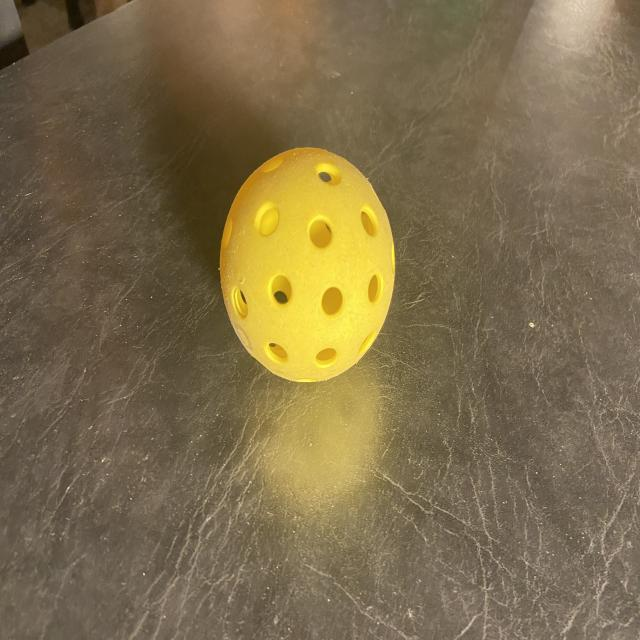ball: (212, 144, 411, 392)
